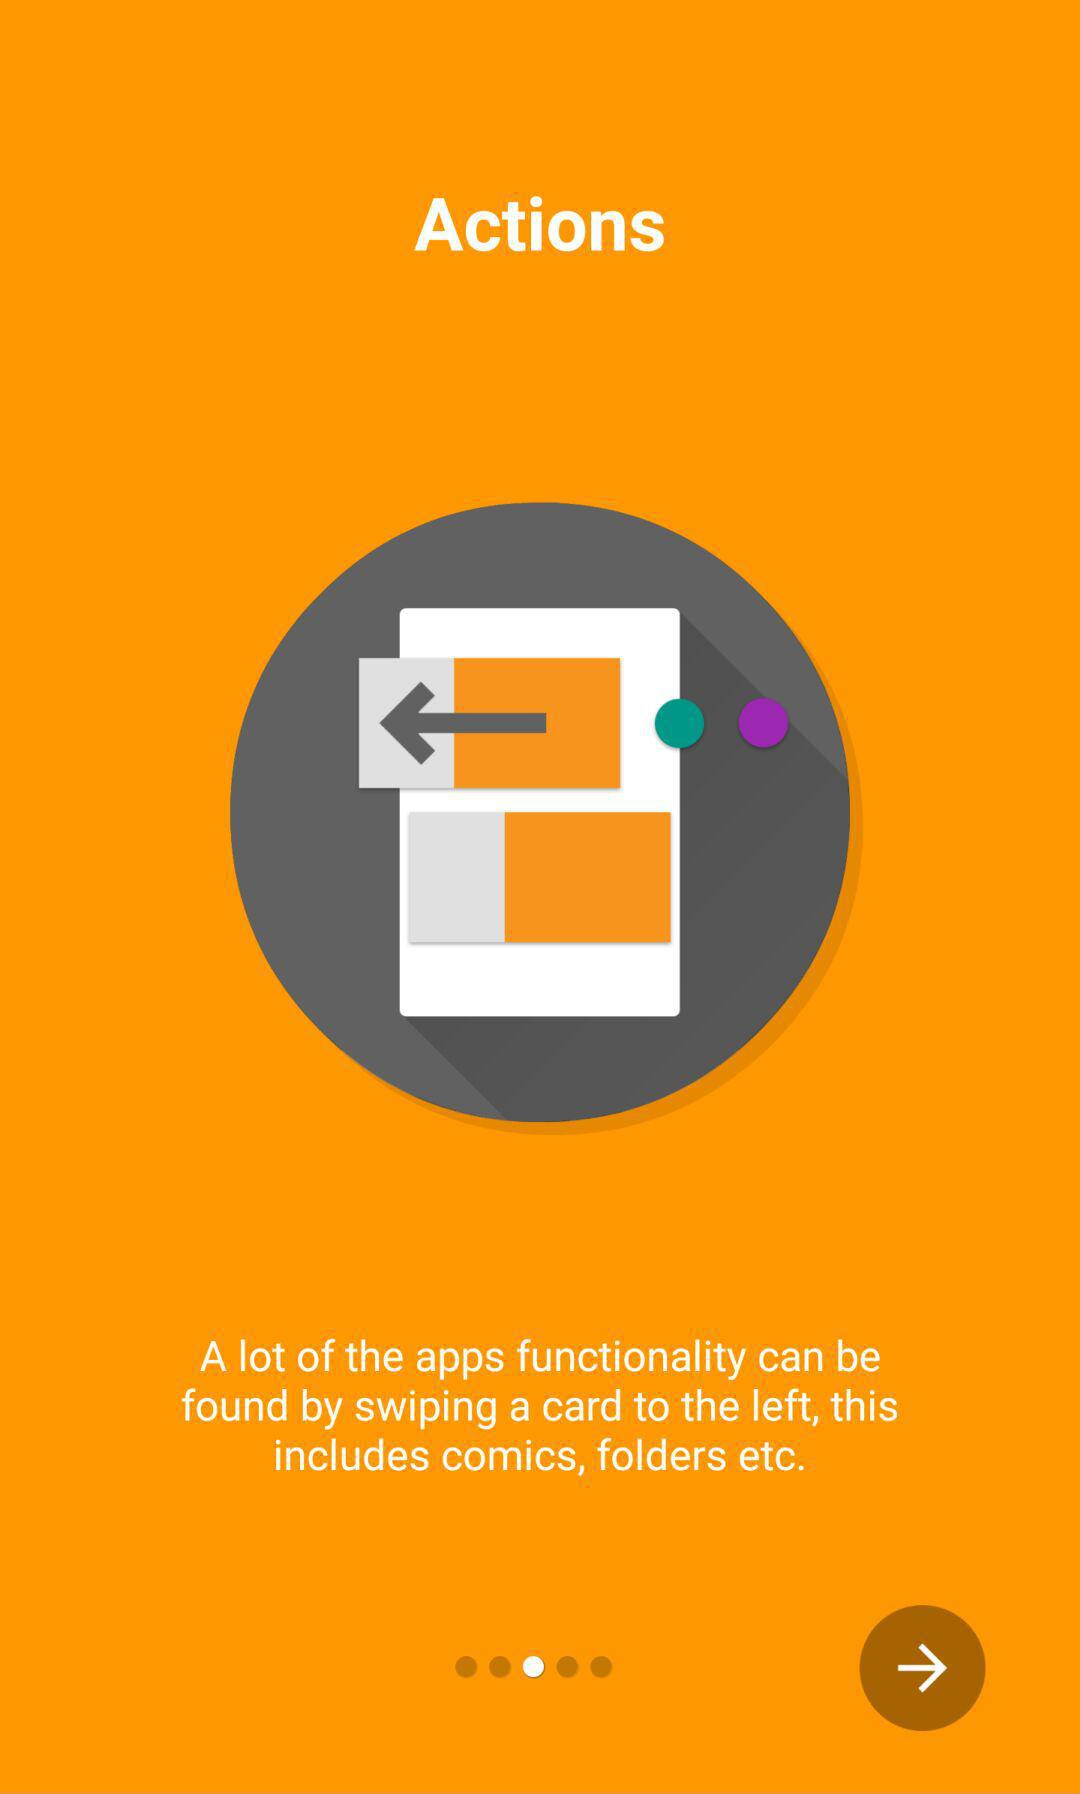Icon: (858, 1603, 986, 1732)
Image: (231, 502, 852, 1124)
PageIndicator: (454, 1654, 615, 1681)
Text: (182, 1337, 899, 1477), (414, 196, 666, 254)
